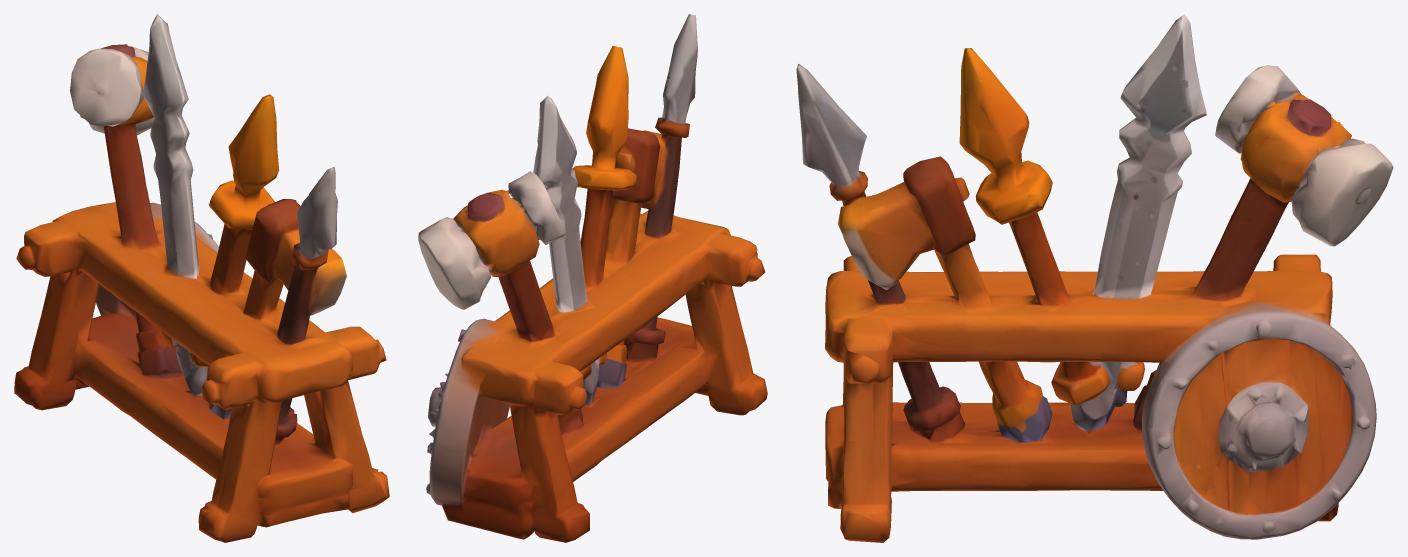
File: weapon_rack-D3ywya_I.glb
3 renders of one model, left to right at view 1: azimuth 30°, elevation 25°; view 2: azimuth 150°, elevation 25°; view 3: azimuth 270°, elevation 25°, orthographic. The views are drawn at different scales.
Parts seen in each view (by area): view 1: tripo_node_8db9d42d-9630-4c26-b34b-8c8d51e8b2e4; view 2: tripo_node_8db9d42d-9630-4c26-b34b-8c8d51e8b2e4; view 3: tripo_node_8db9d42d-9630-4c26-b34b-8c8d51e8b2e4.
Boxes of the visible parts, bbox=[...] form: tripo_node_8db9d42d-9630-4c26-b34b-8c8d51e8b2e4: bbox=[14, 14, 389, 542]; tripo_node_8db9d42d-9630-4c26-b34b-8c8d51e8b2e4: bbox=[418, 14, 767, 542]; tripo_node_8db9d42d-9630-4c26-b34b-8c8d51e8b2e4: bbox=[796, 14, 1393, 542].
Size of the model in its own units: 0.4093 by 0.9022 by 1.
Materials: 1 (1 with a texture image).
